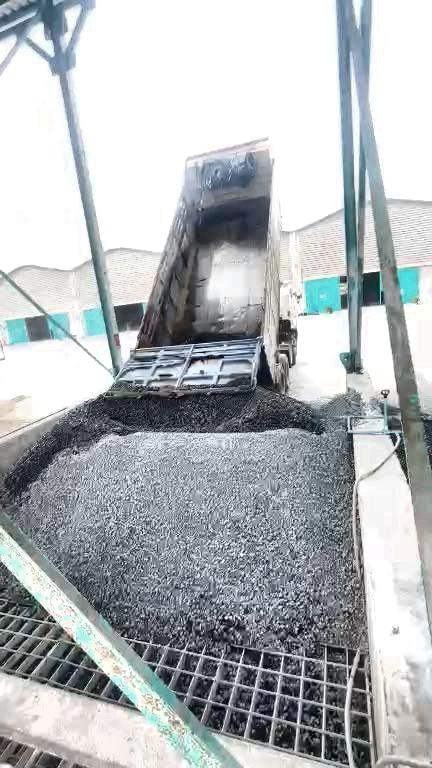gravel: (6, 406, 365, 648), (7, 376, 364, 490), (173, 248, 247, 343), (1, 566, 33, 602)
sand: (1, 395, 26, 436)
